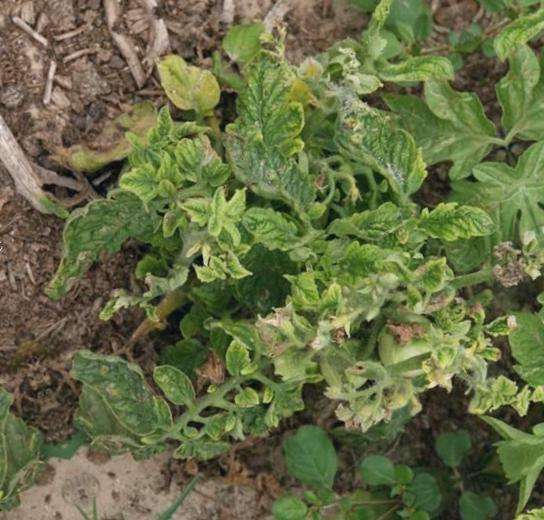Tomato leaf yellow virus: (205, 35, 321, 182), (321, 100, 434, 219), (24, 190, 137, 290), (313, 225, 402, 305), (409, 194, 495, 258), (236, 192, 307, 268), (138, 350, 205, 425), (108, 155, 174, 218), (276, 267, 322, 328), (214, 334, 257, 387), (231, 382, 269, 420), (178, 193, 218, 229)
